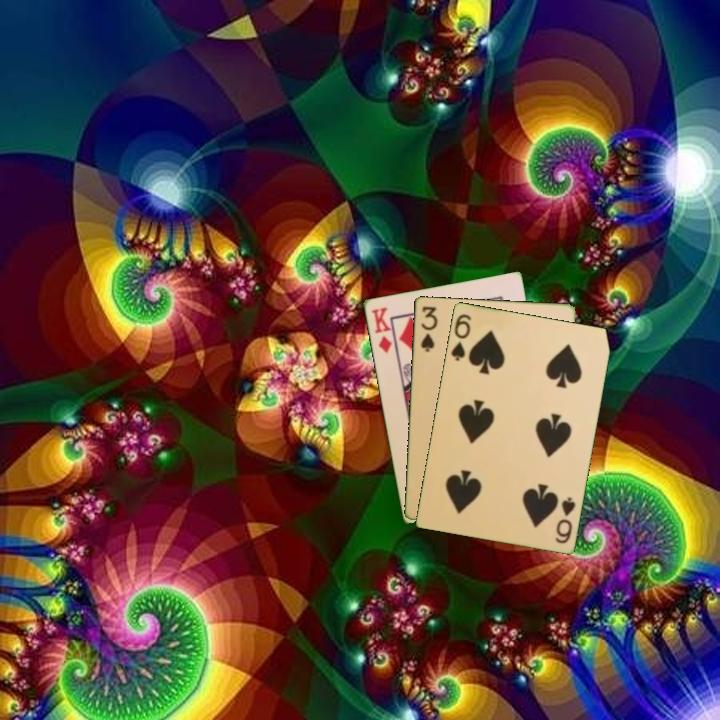3s: (417, 303, 439, 354)
6s: (447, 310, 474, 364), (552, 493, 578, 546)
Kd: (368, 303, 394, 356)
